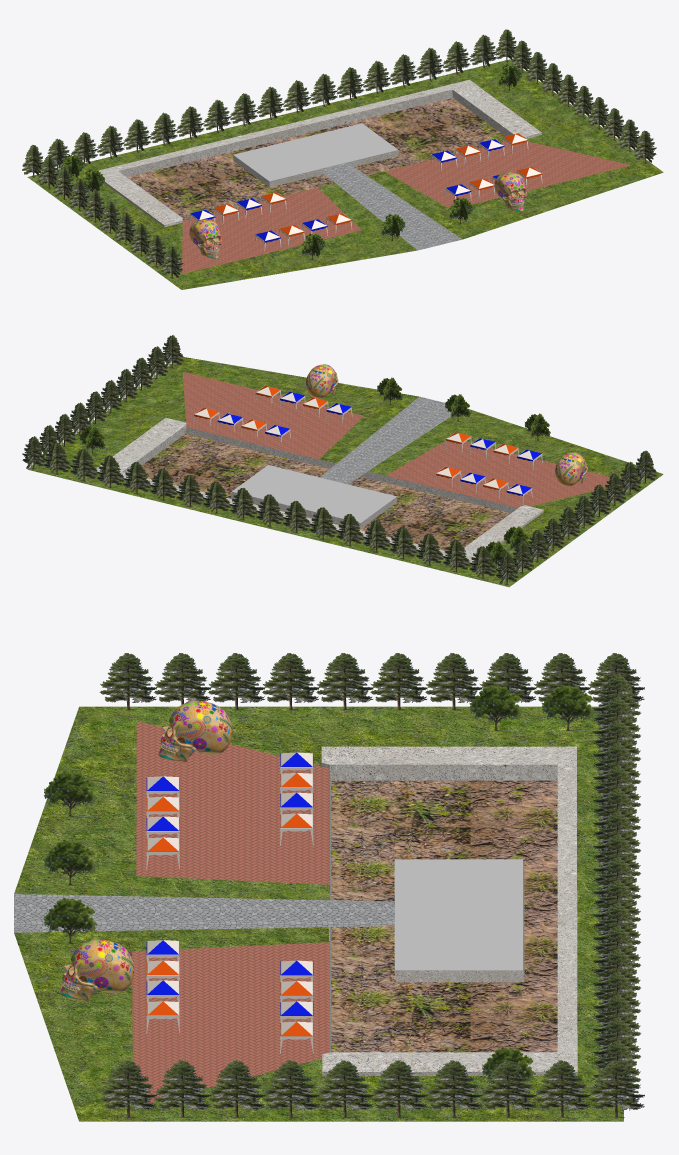
The model's file is escenaPrincipal.obj.
3 views of the same model, one above another, from view 1: azimuth 30°, elevation 25°; view 2: azimuth 150°, elevation 25°; view 3: azimuth 270°, elevation 25° (orthographic). The views are drawn at different scales.
Visible parts, largest first — view 1: isla, contornoArboles, arboles, carpasRojas, carpasAzules, calavera1, calavera2; view 2: isla, contornoArboles, arboles, carpasAzules, carpasRojas, calavera1, calavera2; view 3: isla, contornoArboles, arboles, carpasRojas, carpasAzules, calavera2, calavera1.
Boxes of the visible parts, x1,y1,x2,y2 form: isla: (27,59,663,289); contornoArboles: (22,29,656,278); arboles: (59,64,522,262); carpasRojas: (213,133,542,244); carpasAzules: (189,139,504,250); calavera1: (189,219,221,258); calavera2: (494,172,526,211); isla: (27,357,663,587); contornoArboles: (22,335,656,585); arboles: (79,377,550,569); carpasAzules: (217,391,542,504); carpasRojas: (193,385,518,498); calavera1: (555,452,587,486); calavera2: (306,364,338,398); isla: (14,706,623,1121); contornoArboles: (99,653,644,1117); arboles: (44,685,595,1092); carpasRojas: (146,773,313,1053); carpasAzules: (146,752,313,1033); calavera2: (60,939,134,1000); calavera1: (158,700,232,762).
Bounding box in the file's own units: 65.04 × 5.4 × 40.55.
